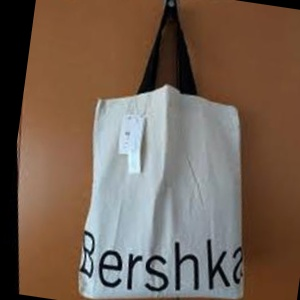bershka: (209, 107, 300, 300)
